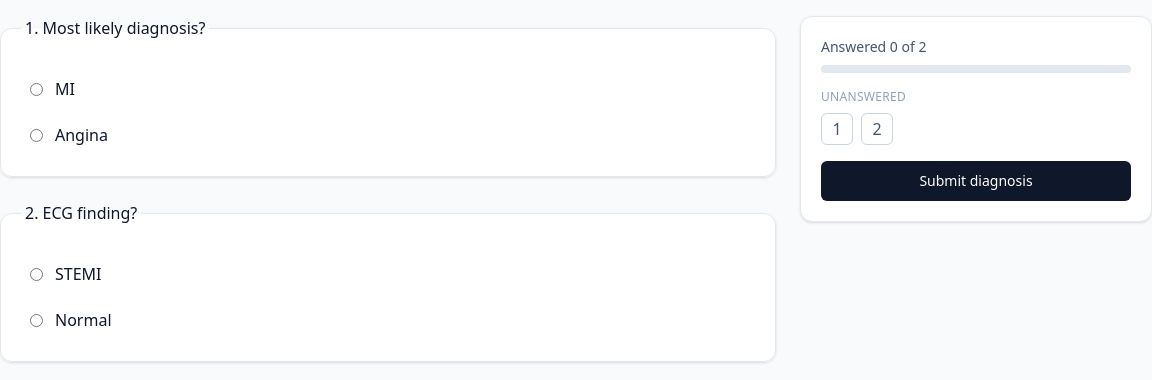
Test: CaseRunner › shows an error and keeps selections when the submission fails
The image size is (1152, 380).
Click the radio button labelled "MI".
click(36, 89)  # box [30, 82, 43, 96]
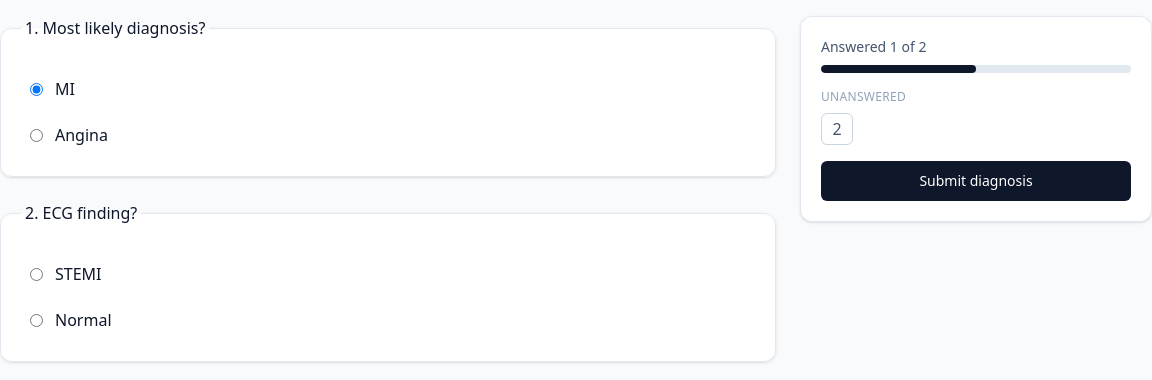
Click the radio button labelled "STEMI".
click(36, 274)  # box [30, 268, 43, 280]
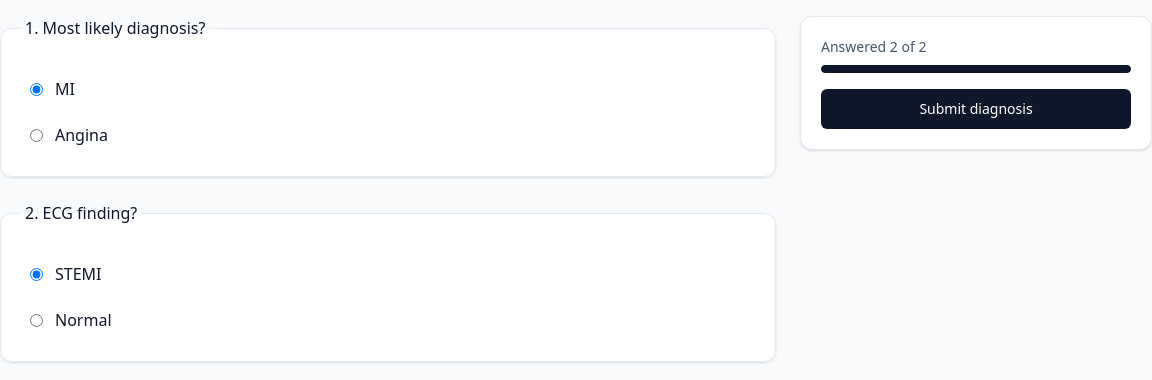
Submit the form from the button "Submit diagnosis", box [821, 89, 1131, 129]
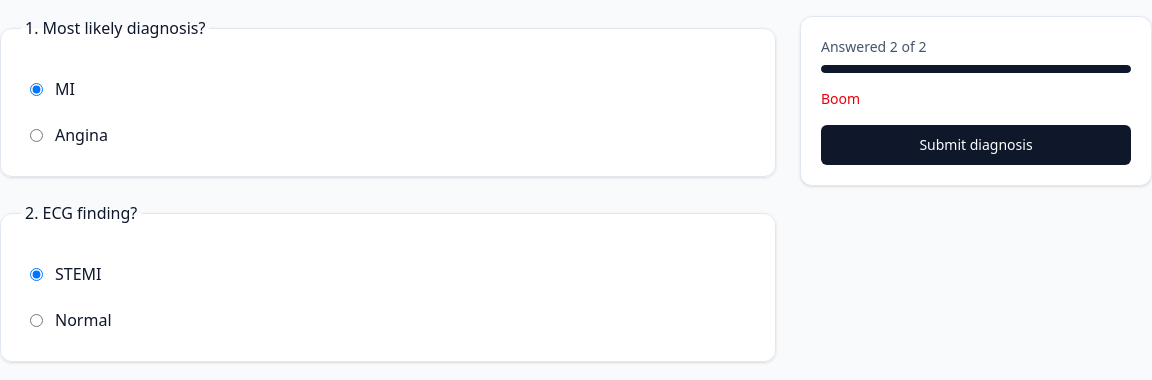
expect the radio button labelled "MI" is checked: met, box [30, 82, 43, 96]
expect the message reads "Boom": met, box [821, 89, 860, 108]
